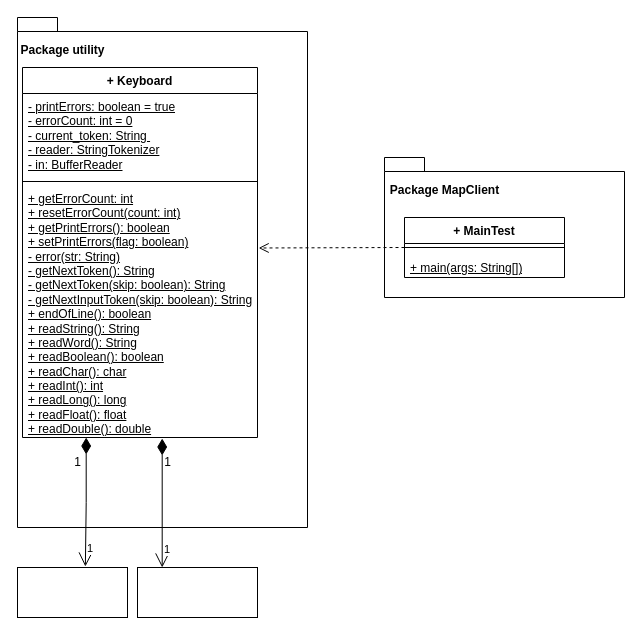
This 642x635 diagram has some shape labels left out. The box of each missing label's shape, as (x1, y1, x2, y2) in pixels:
BufferedReader: (136, 566, 258, 618)
StringTokenizer: (16, 566, 128, 618)
